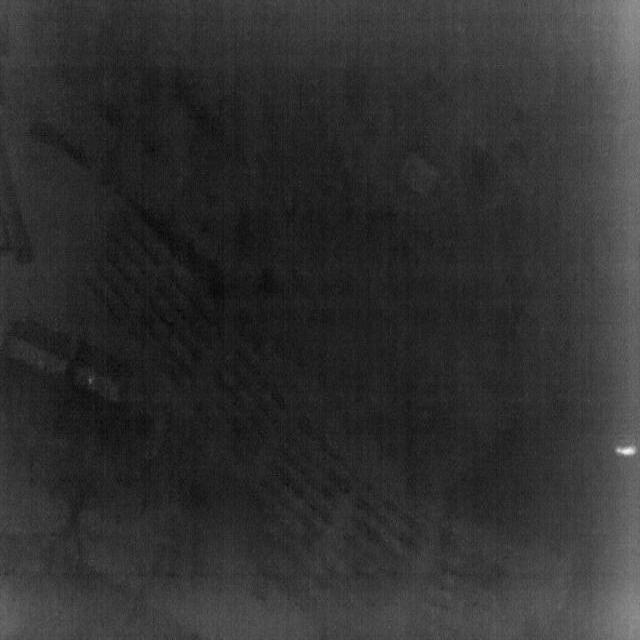deer: (614, 444, 638, 458)
